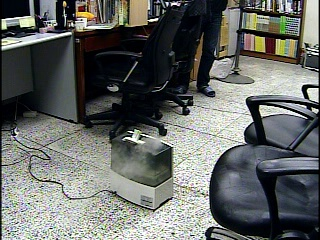smoke: (111, 129, 162, 179)
